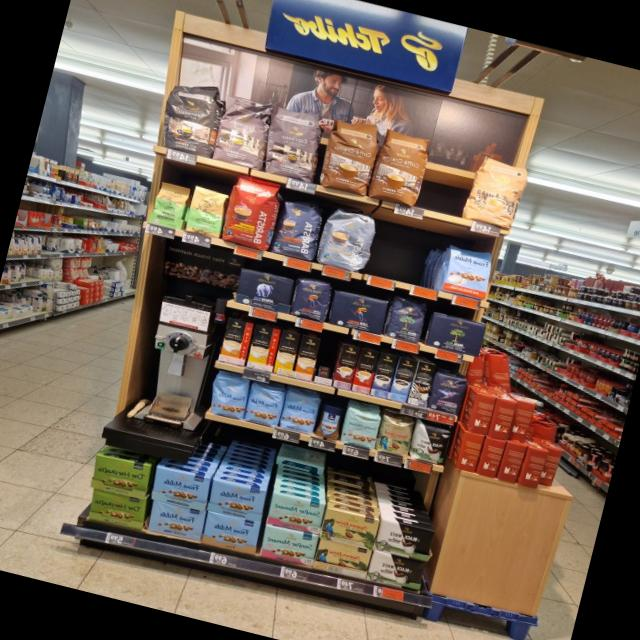AB Gemahlen: (232, 264, 296, 314)
Athiopien Bohne: (148, 179, 192, 230)
Athiopien Gemahlen: (182, 184, 230, 240)
BM Bohne: (382, 294, 428, 344)
BM Gemahlen: (424, 311, 486, 359)
BW Bohne: (408, 421, 454, 466)
BW Gemahlen: (364, 548, 426, 594), (374, 517, 436, 562)
Barista CC: (314, 204, 379, 274)
Barista Espresso: (268, 192, 327, 262)
Barista Kolumbien: (219, 173, 283, 251)
C Fino Bohne: (426, 371, 468, 416)
CC Mild: (462, 155, 530, 231)
CC Vollmundig 36 Pads: (367, 126, 432, 207), (318, 115, 382, 196)
Colombia BB Bohne: (374, 414, 416, 458)
Colombia BB Gemahlen: (318, 506, 380, 552), (310, 538, 372, 582)
Empty Shelf: (366, 220, 448, 290), (414, 140, 478, 217), (314, 336, 342, 379)
Espresso Kraftig: (154, 74, 222, 156)
Espresso M Art: (260, 104, 328, 183), (210, 92, 274, 170)
FM 36 Pads: (439, 240, 496, 301)
FM Bohne: (205, 370, 251, 420), (278, 388, 322, 436), (242, 381, 285, 428)
FM Gemahlen: (148, 463, 212, 512), (199, 509, 260, 556), (205, 477, 267, 522), (144, 498, 207, 542)
FM Instant: (314, 400, 346, 442)
Herzhatfe Mundig: (88, 452, 152, 501), (86, 487, 148, 531)
LG Bohne: (288, 274, 335, 324)
LG Gemahlen: (326, 288, 389, 336)
SM Bohne: (338, 406, 382, 451)
SM Gemahlen: (258, 522, 318, 568), (265, 491, 326, 536)
Simo CCMild: (246, 323, 280, 372)
Simo CCMild bigpack: (272, 329, 300, 376)
Simo CCVollmundig: (218, 317, 254, 366)
Simo CCVollmundig bigpack: (292, 334, 322, 382)
Simo Es Brazil: (350, 347, 379, 394)
Simo Es Caramel: (332, 342, 361, 390)
Simo Es Elegant: (406, 360, 436, 408)
Simo Es Kraft: (370, 352, 398, 398)
Simo Es Vanilla: (388, 356, 418, 402)
